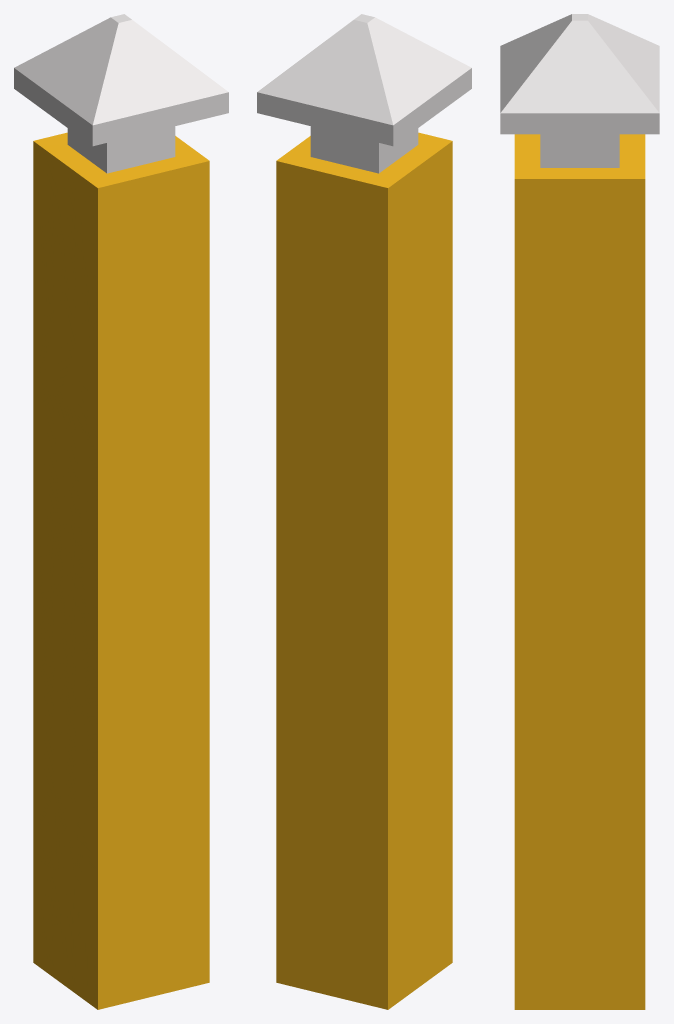
The model's file is cot_truong_nh.fbx.
3 renders of one model, left to right at view 1: azimuth 30°, elevation 25°; view 2: azimuth 150°, elevation 25°; view 3: azimuth 270°, elevation 25°, orthographic.
Parts seen in each view (by area): view 1: Cot_NguyenHue; view 2: Cot_NguyenHue; view 3: Cot_NguyenHue.
Boxes of the visible parts, left/top/right/bottom form: Cot_NguyenHue: left=14, top=14, right=228, bottom=1009; Cot_NguyenHue: left=257, top=14, right=471, bottom=1009; Cot_NguyenHue: left=500, top=14, right=659, bottom=1009.
Bounding box in the file's own units: 20.57 × 138 × 20.57.
Materials: 1 (1 with a texture image).
